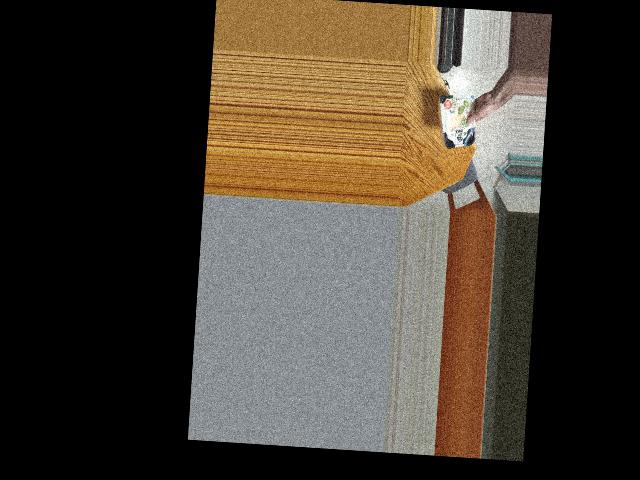cheese: (438, 100, 484, 146)
